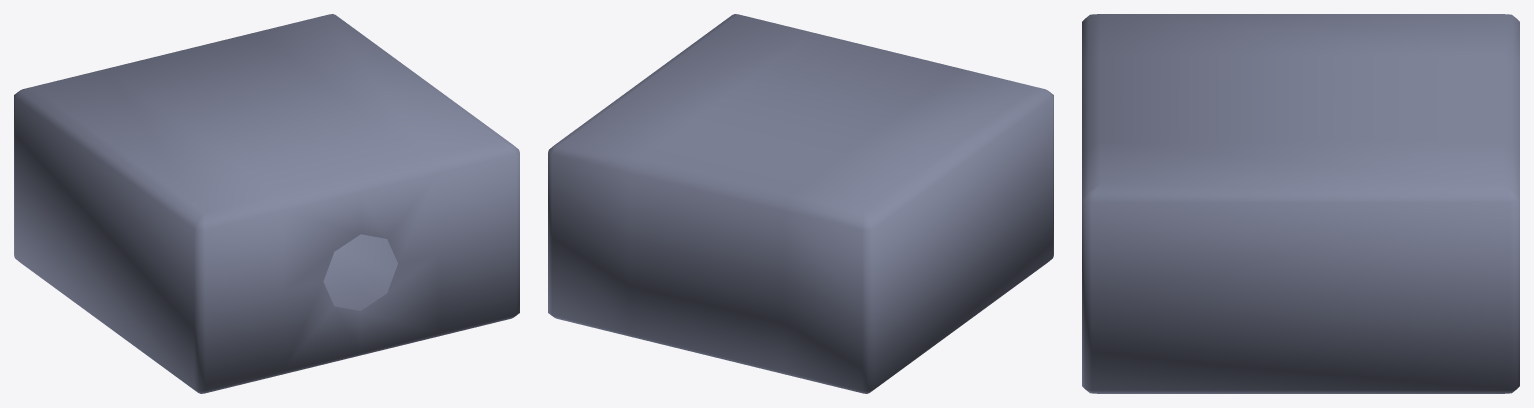
The model's file is MeshSoapBottle_26_0_GeomSubset_0.obj.
3 renders of one model, left to right at view 1: azimuth 30°, elevation 25°; view 2: azimuth 150°, elevation 25°; view 3: azimuth 270°, elevation 25°, orthographic. The views are drawn at different scales.
Parts seen in each view (by area): view 1: MeshSoapBottle_26_0_GeomSubset_0; view 2: MeshSoapBottle_26_0_GeomSubset_0; view 3: MeshSoapBottle_26_0_GeomSubset_0.
Part boxes in pixels (x1,y1,x2,y2): MeshSoapBottle_26_0_GeomSubset_0: (14,14,519,393); MeshSoapBottle_26_0_GeomSubset_0: (548,14,1053,393); MeshSoapBottle_26_0_GeomSubset_0: (1082,14,1519,393).
Bounding box in the file's own units: 0.1561 × 0.0828 × 0.1561.
